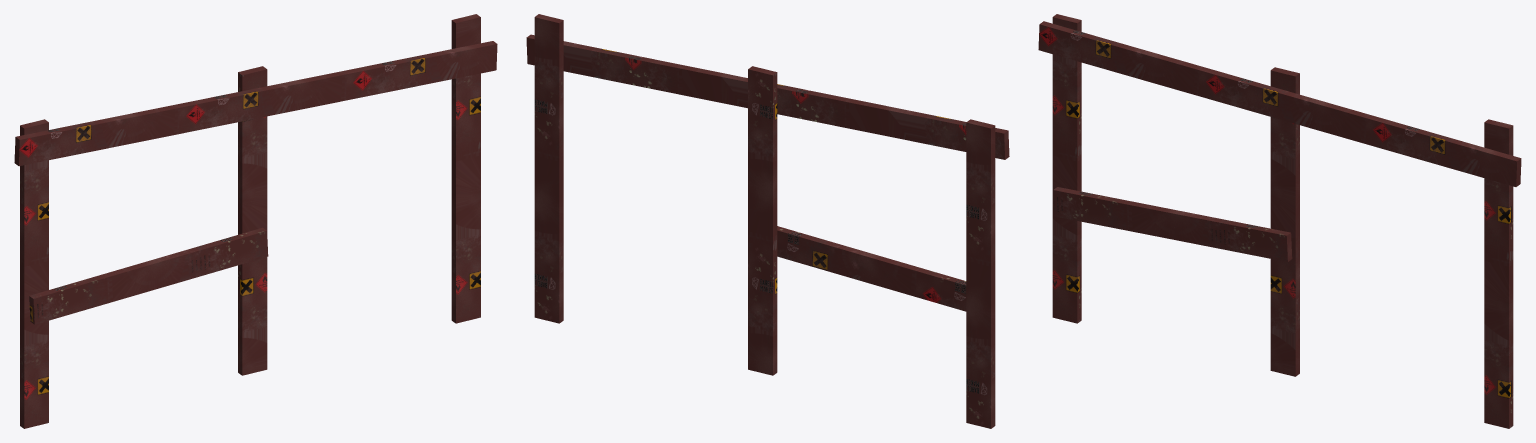
File: CS_fance_inside_03.FBX
3 renders of one model, left to right at view 1: azimuth 30°, elevation 25°; view 2: azimuth 150°, elevation 25°; view 3: azimuth 330°, elevation 25°, orthographic.
Visible parts, largest first — view 1: SM_fance_inside_03; view 2: SM_fance_inside_03; view 3: SM_fance_inside_03.
Part boxes in pixels (x1,y1,x2,y2): SM_fance_inside_03: [14, 14, 497, 428]; SM_fance_inside_03: [526, 14, 1009, 428]; SM_fance_inside_03: [1038, 14, 1521, 428].
Size of the model in its own units: 192 by 6 by 115.
